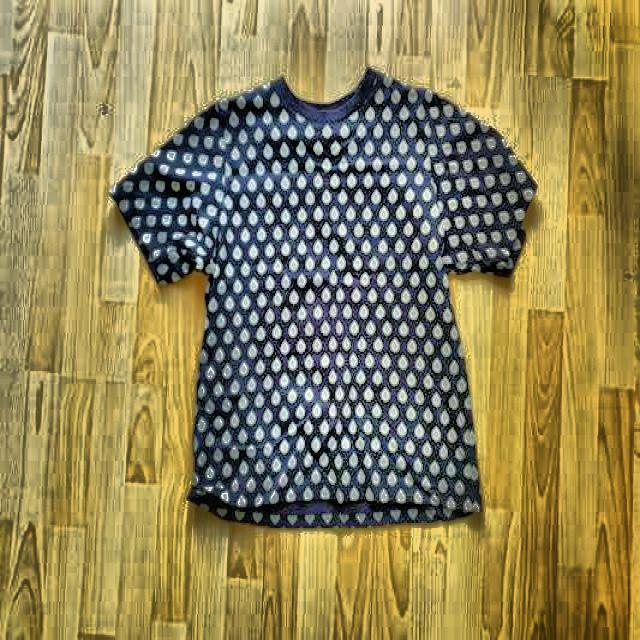clothes: (106, 63, 542, 534)
